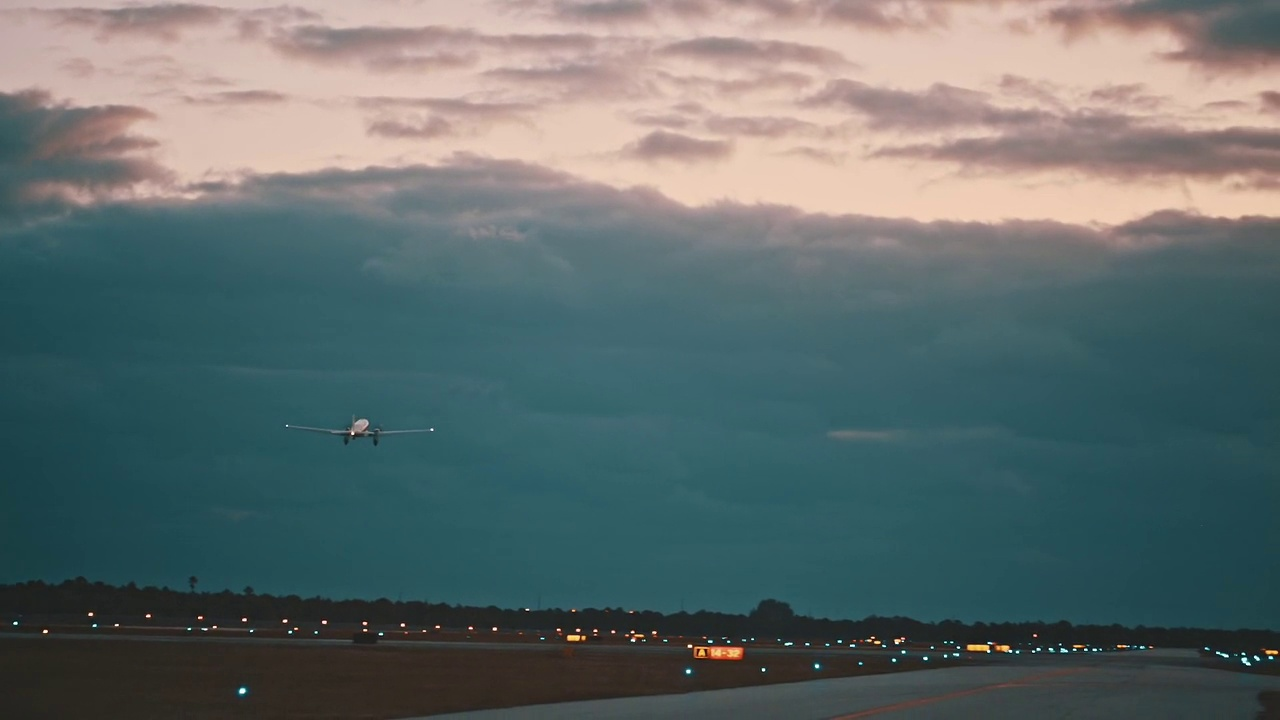plane: (286, 413, 435, 446)
